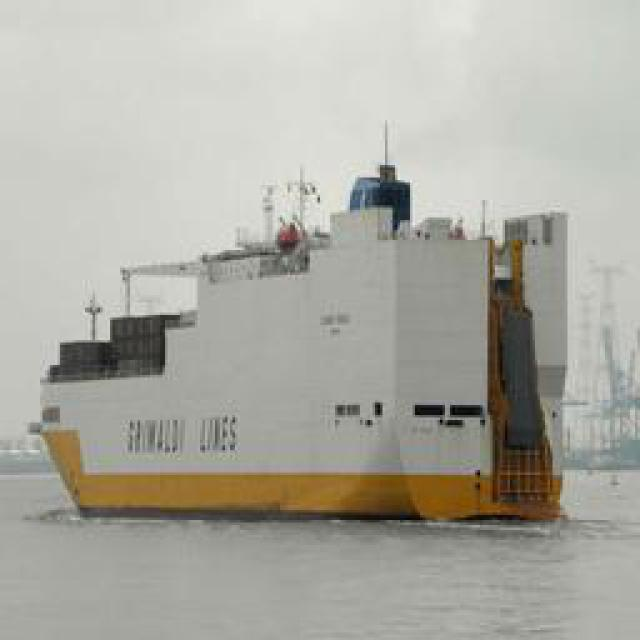Ship: (20, 105, 601, 525)
